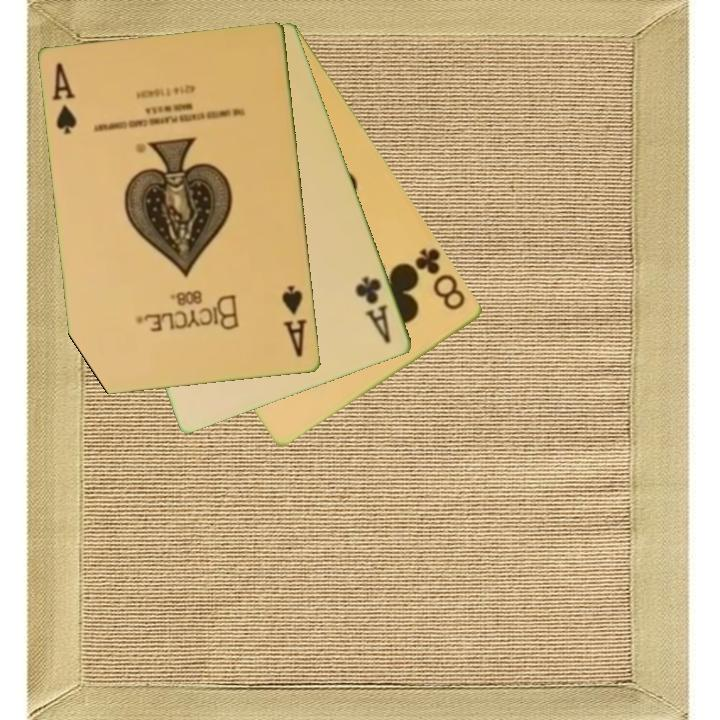8c: (408, 245, 469, 314)
Ac: (352, 273, 394, 347)
As: (49, 59, 80, 138), (279, 282, 310, 360)
